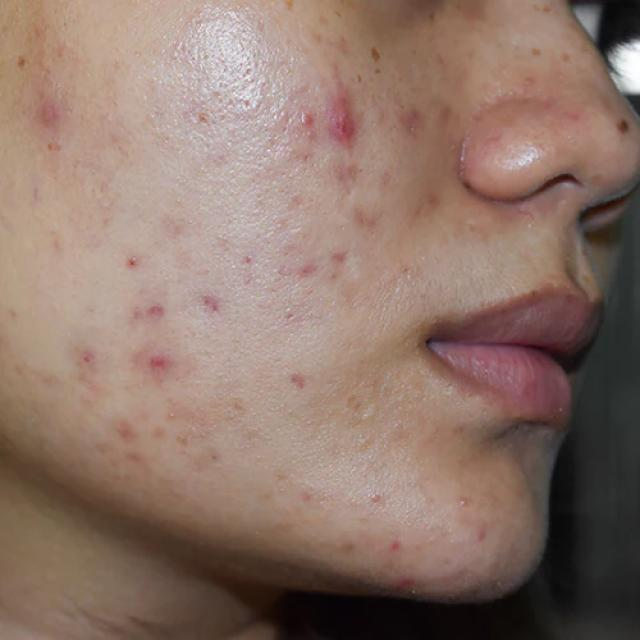acne: (84, 209, 352, 481), (277, 430, 550, 592), (270, 42, 430, 232), (17, 36, 127, 185)
